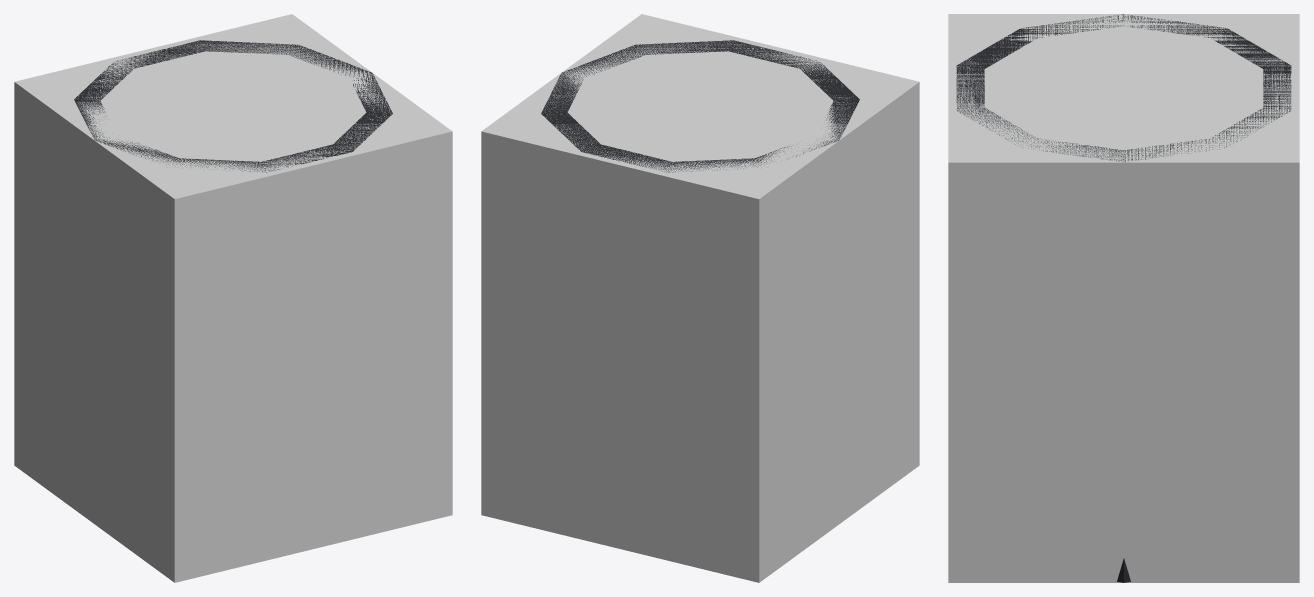
File: JP_Prop_Brazier_A.glb
3 renders of one model, left to right at view 1: azimuth 30°, elevation 25°; view 2: azimuth 150°, elevation 25°; view 3: azimuth 270°, elevation 25°, orthographic. The views are drawn at different scales.
Parts seen in each view (by area): view 1: COL_JP_Prop_Brazier_A, JP_Prop_Brazier_A; view 2: COL_JP_Prop_Brazier_A, JP_Prop_Brazier_A; view 3: COL_JP_Prop_Brazier_A, JP_Prop_Brazier_A.
Boxes of the visible parts, x1,y1,x2,y2 form: COL_JP_Prop_Brazier_A: (14, 14, 452, 582); JP_Prop_Brazier_A: (74, 40, 392, 172); COL_JP_Prop_Brazier_A: (481, 14, 919, 582); JP_Prop_Brazier_A: (541, 40, 859, 172); COL_JP_Prop_Brazier_A: (948, 14, 1299, 582); JP_Prop_Brazier_A: (956, 14, 1291, 582).
Size of the model in its own units: 0.7341 by 0.9567 by 0.72.
Materials: 2 (2 with a texture image).
